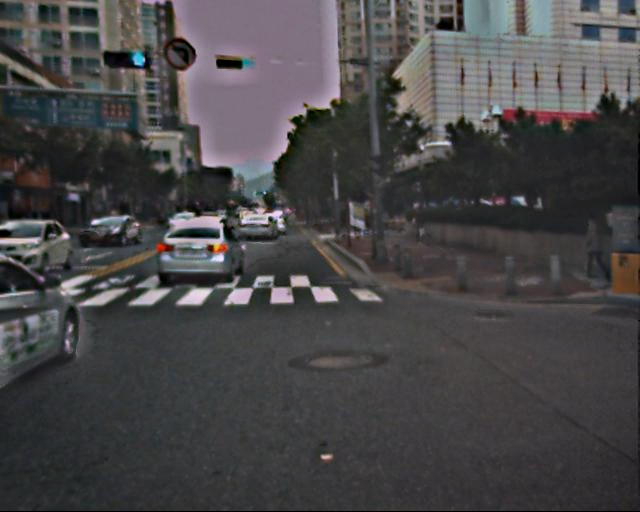person: (578, 218, 604, 282)
